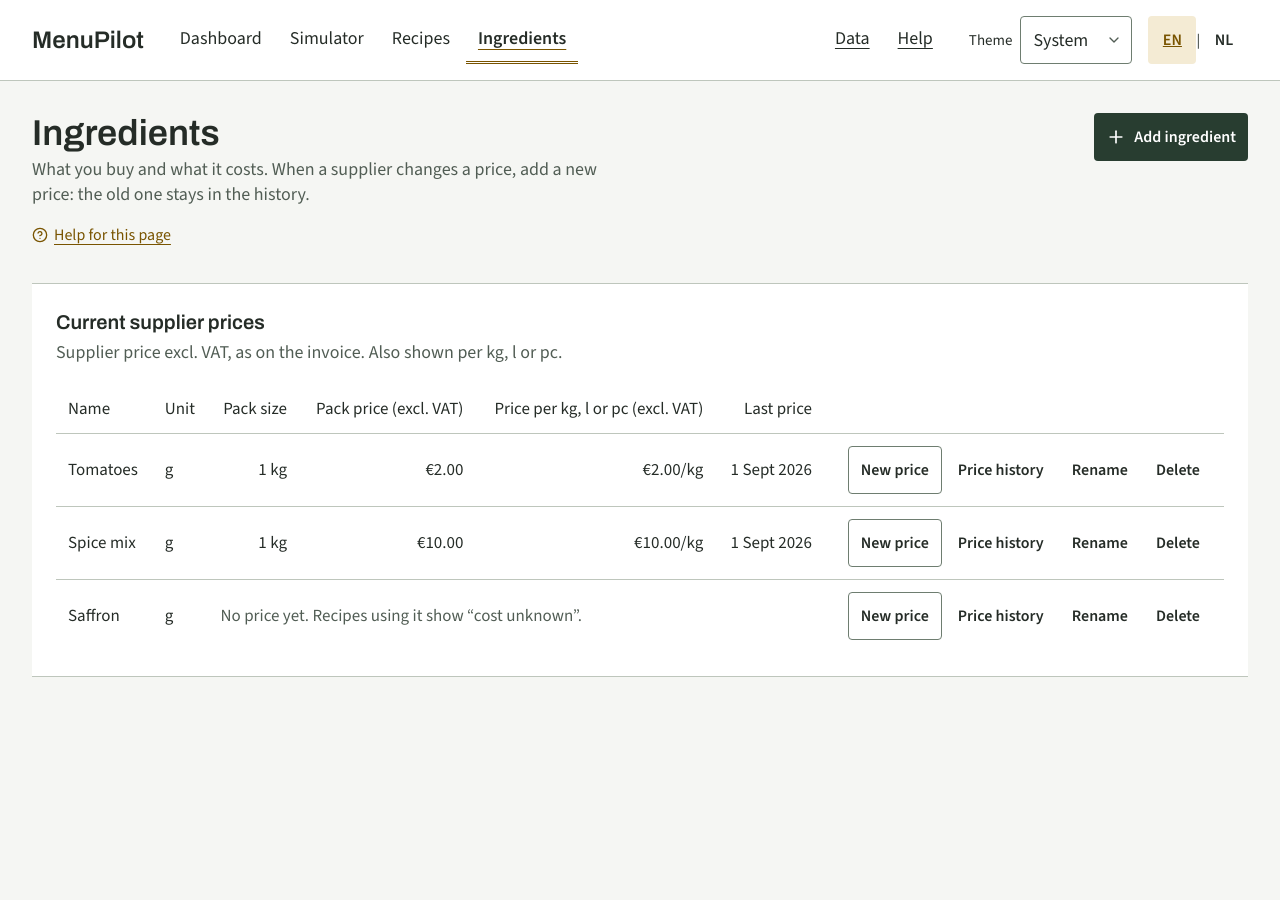
Test: Price valid from › shows a field error for a date before the previous price or in the future, and writes nothing
Expected: the heading "Ingredients" is shown, x1=32 y1=113 x2=220 y2=153
Click the button with aria-label "New price for Tomatoes": (895, 470) x1=848 y1=446 x2=942 y2=494
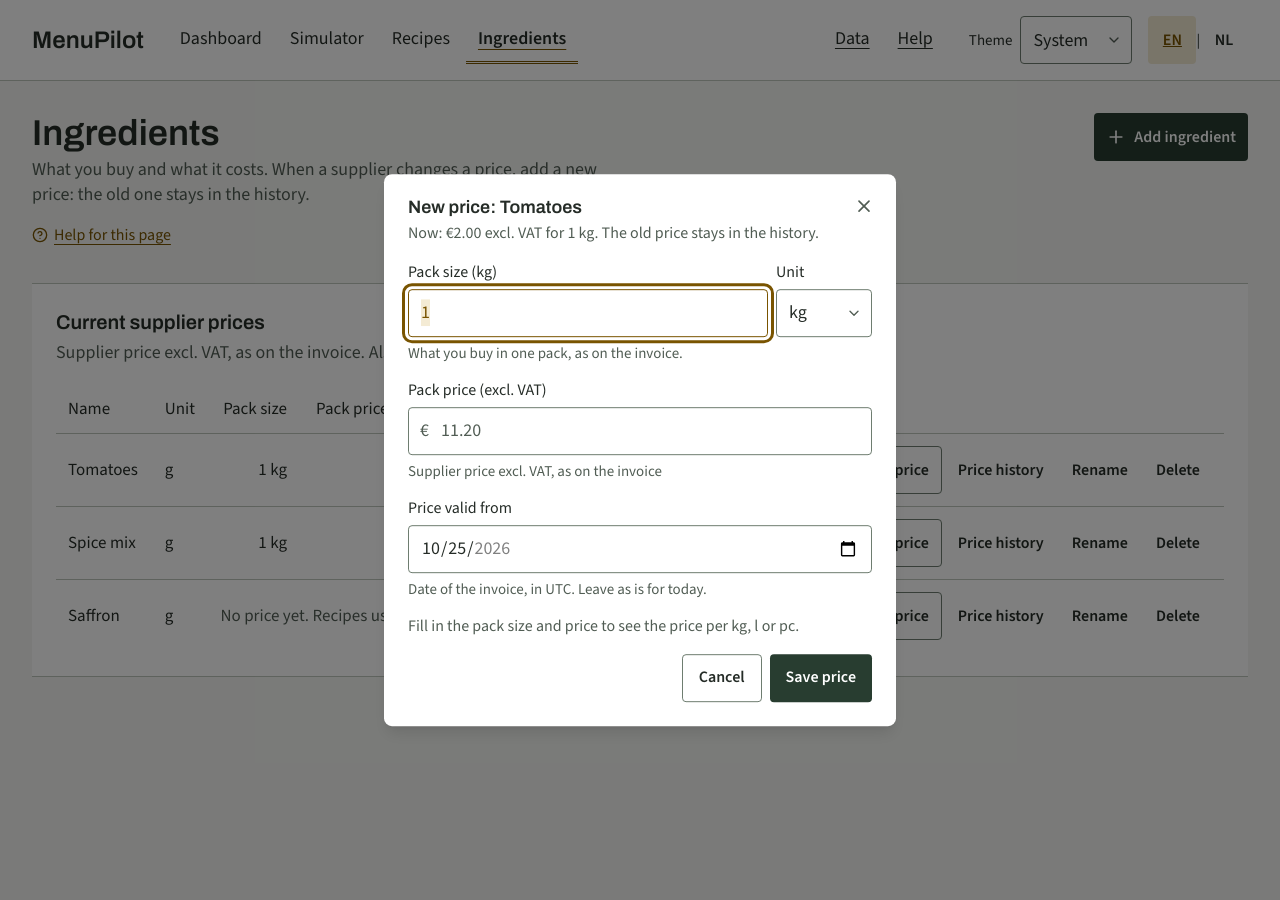
In the field labelled "Pack price (excl. VAT)": (640, 431) x1=408 y1=407 x2=872 y2=455, type "2,50"
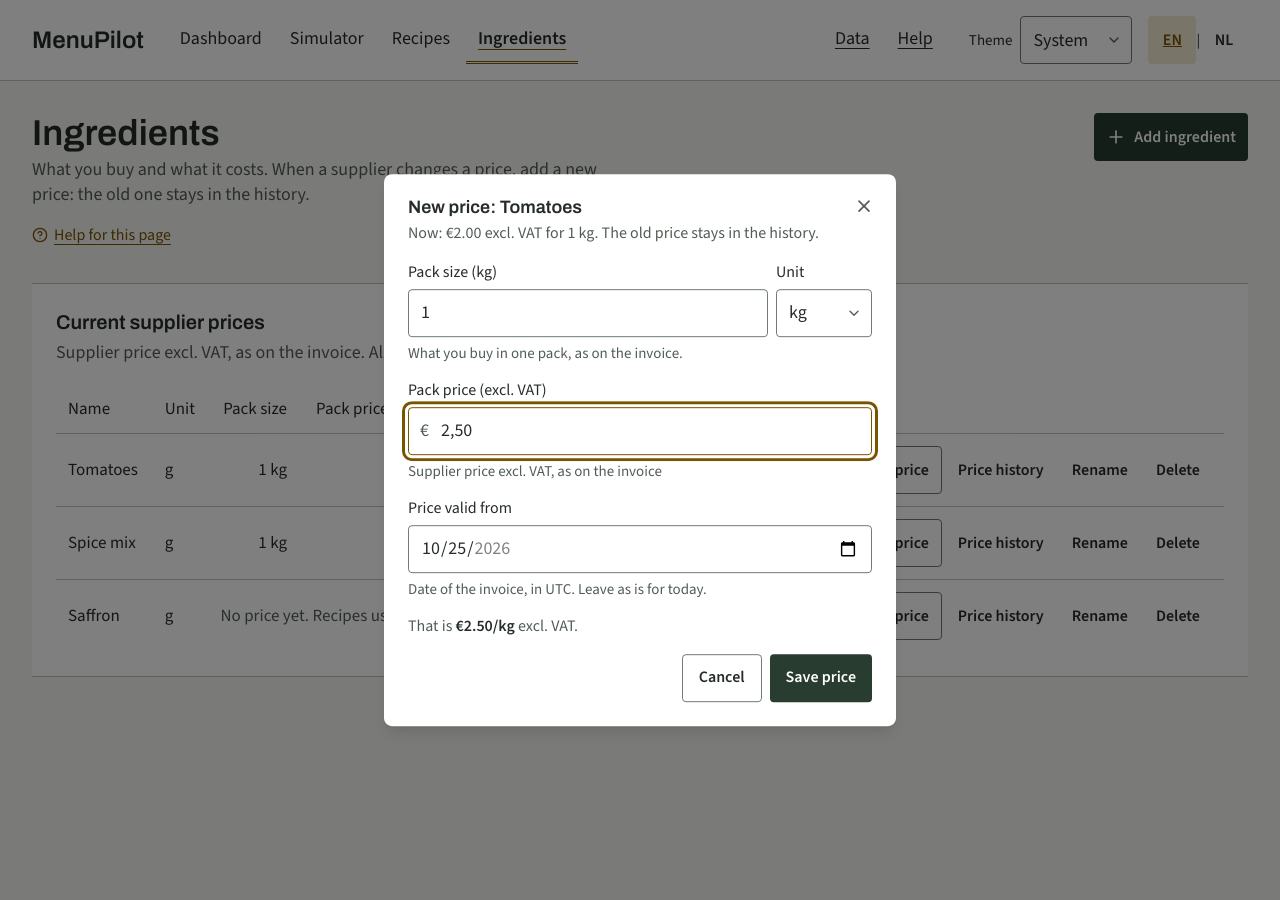
In the date field labelled "Price valid from": (640, 549) x1=408 y1=525 x2=872 y2=573, type "2026-08-31"
Click the button "Save price": (821, 678) x1=770 y1=654 x2=872 y2=702
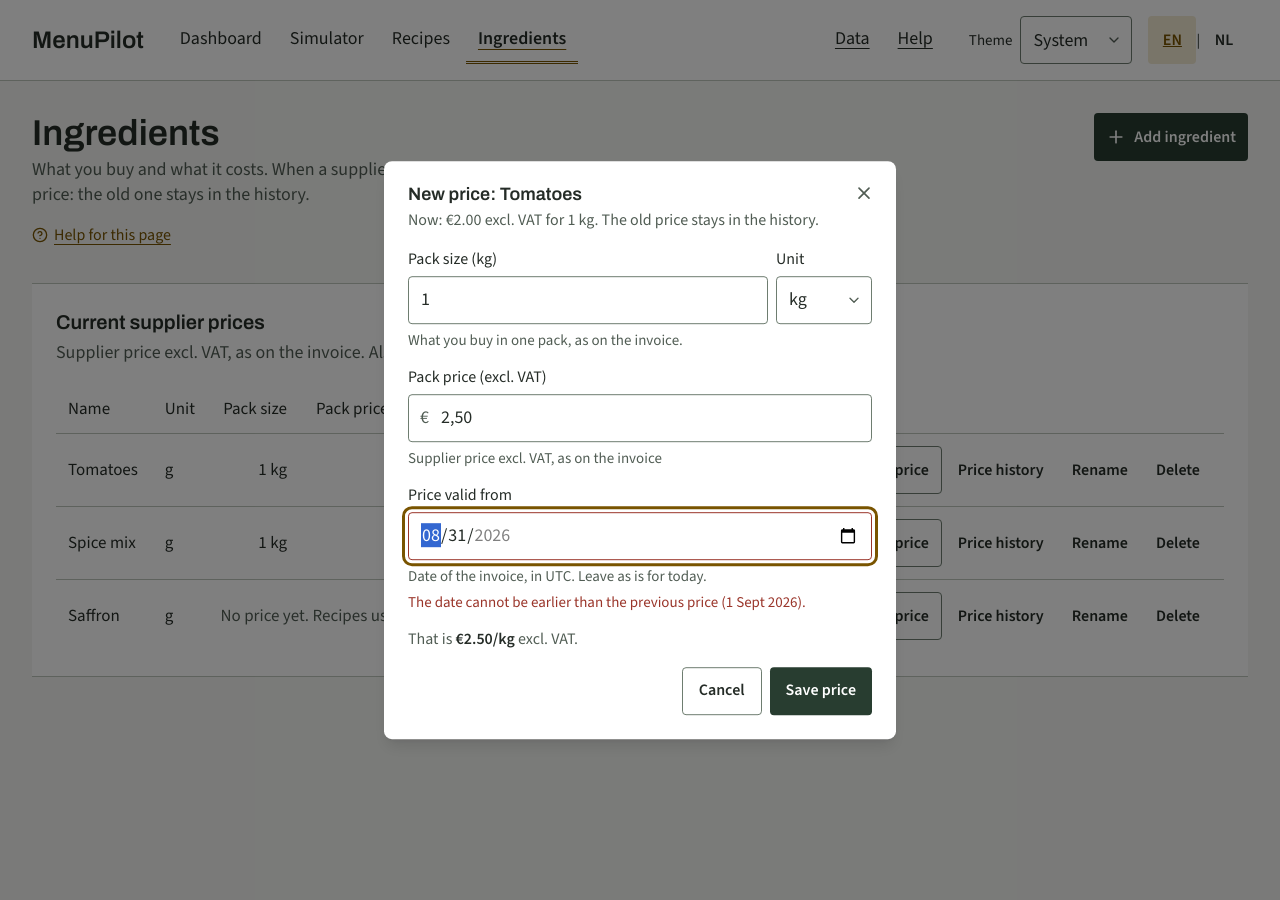
Result: the date field labelled "Price valid from" is marked as invalid
In the date field labelled "Price valid from": (640, 536) x1=408 y1=512 x2=872 y2=560, type "2999-01-01"
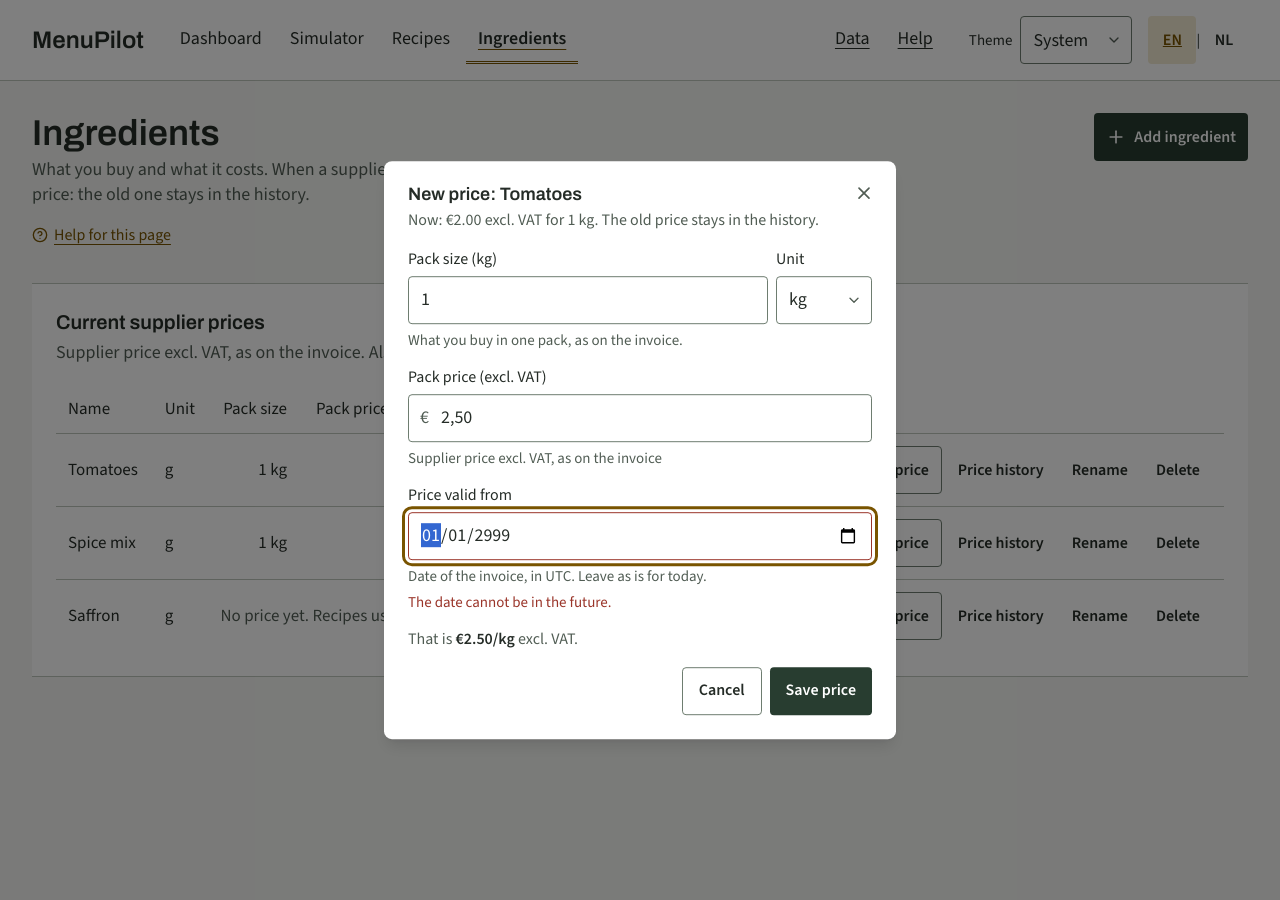
In the date field labelled "Price valid from": (640, 536) x1=408 y1=512 x2=872 y2=560, type "2026-09-01"
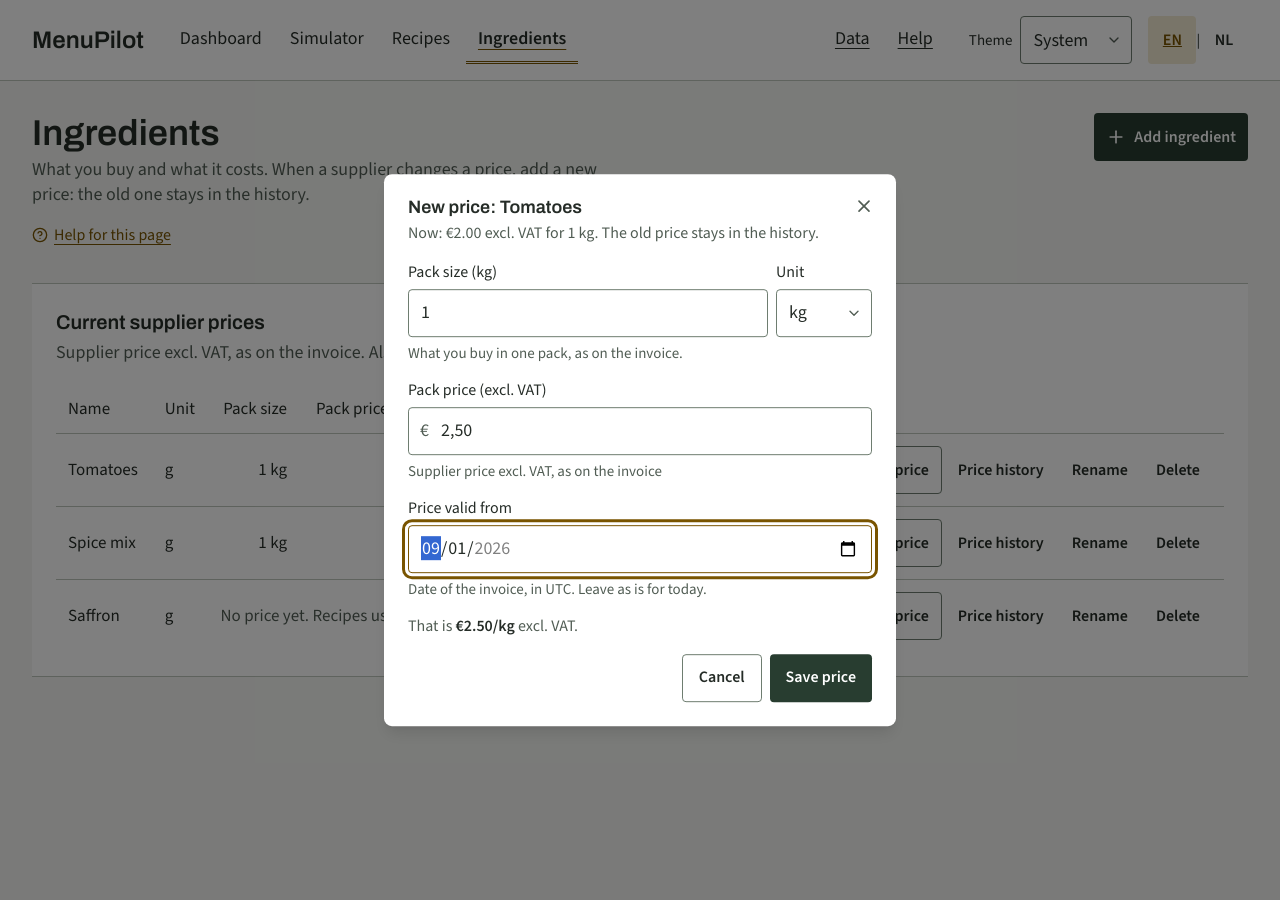
Result: the date field labelled "Price valid from" does not have attribute aria-invalid at x1=408 y1=525 x2=872 y2=573
Click the button "Save price": (821, 678) x1=770 y1=654 x2=872 y2=702
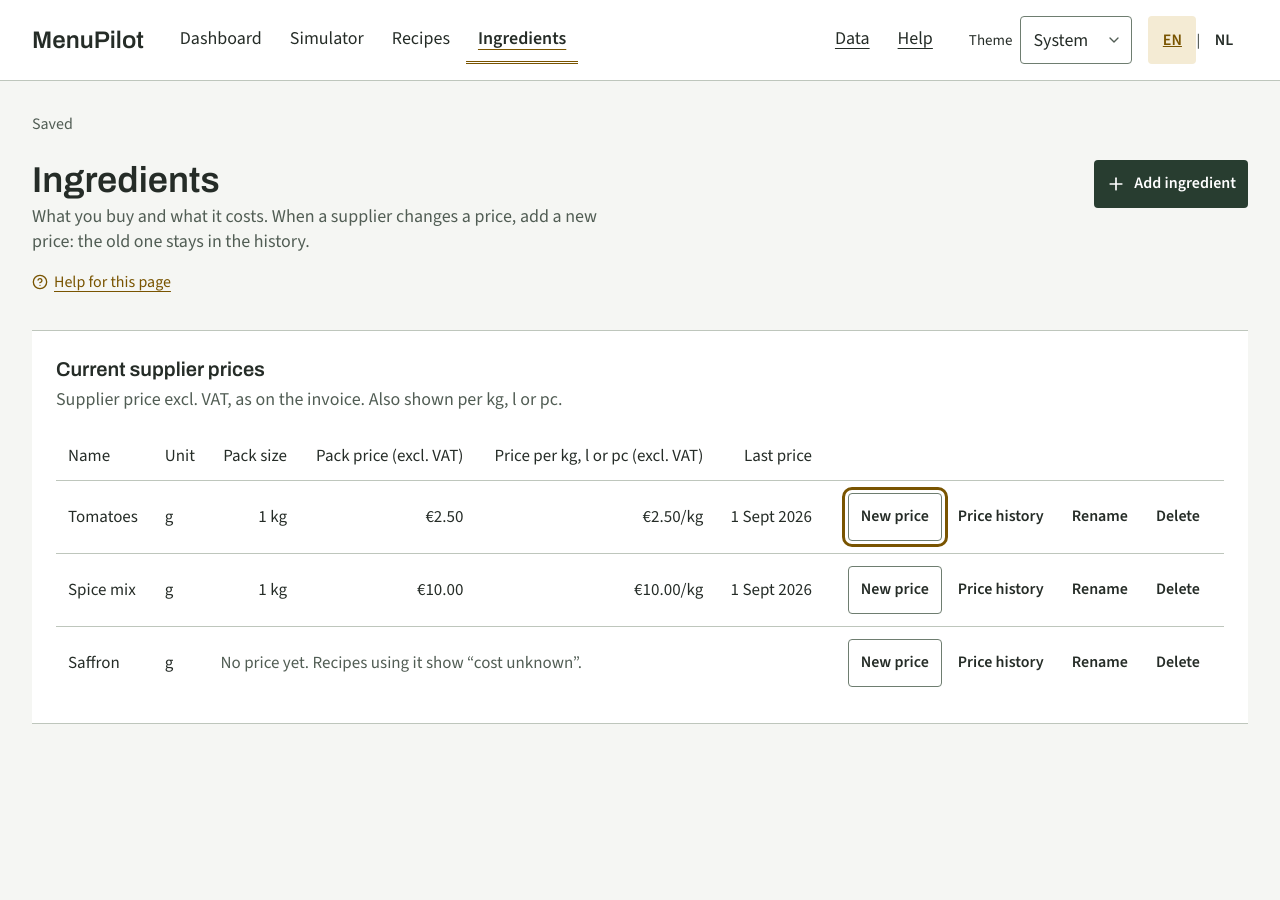
Result: the dialog is gone
